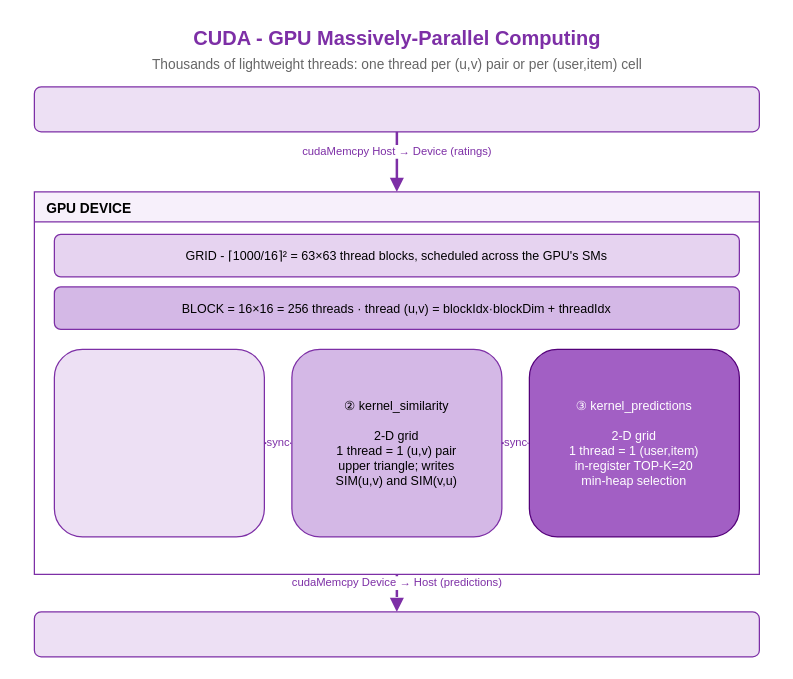
Image size: 793x679. Some labels were removed from this diagram. The box of each missing label's shape, as (x1, y1, x2, y2) in pixels:
HOST (CPU) - Phase 1: generate data (same SEED as serial): (33, 86, 759, 132)
HOST (CPU) — Phase 5: copy predictions back, compute MAE / RMSE on test set: (33, 611, 759, 657)
① kernel_user_means 1-D grid 1 thread = 1 user: (53, 348, 264, 537)
